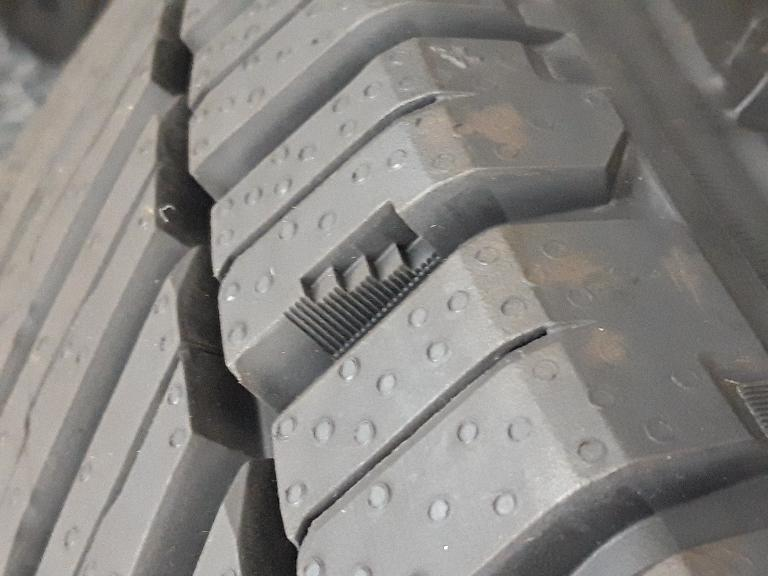temoin:100: (276, 193, 449, 369)
